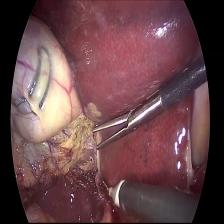Grasper: (90, 93, 159, 155)
Hook: (98, 176, 125, 210)
